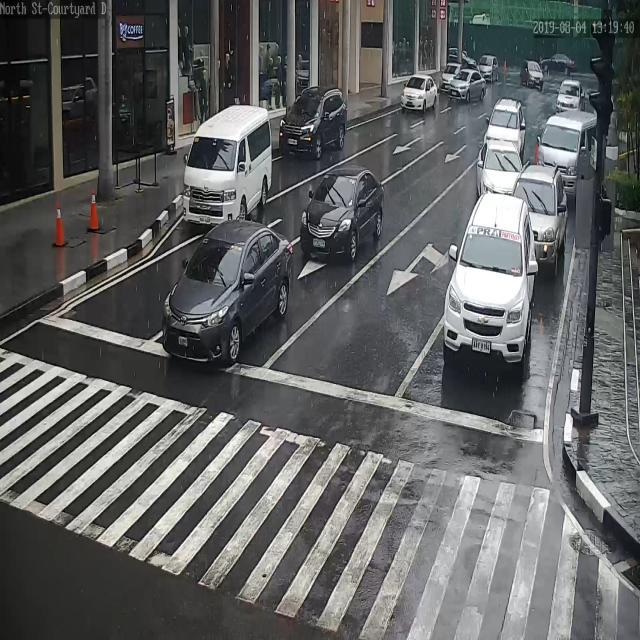car: (162, 224, 293, 365), (443, 192, 536, 371), (302, 166, 384, 259), (514, 166, 568, 277), (279, 84, 346, 156), (483, 98, 526, 165), (477, 139, 523, 197), (401, 74, 437, 112), (448, 70, 486, 100), (556, 79, 585, 113), (540, 53, 577, 74), (439, 63, 464, 93), (520, 61, 544, 90), (478, 55, 498, 83)
van: (181, 105, 273, 226), (536, 113, 599, 199)
